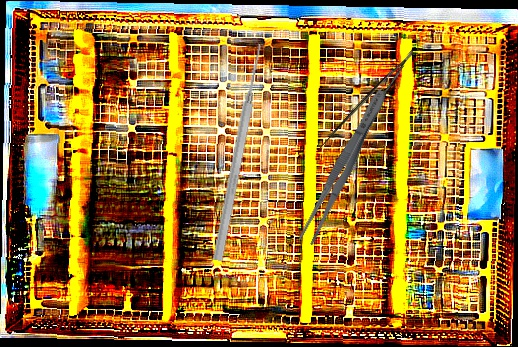Dressing Forceps: (295, 86, 393, 247)
Pusher: (210, 43, 268, 262)
Tissue Forceps: (313, 50, 430, 166)
